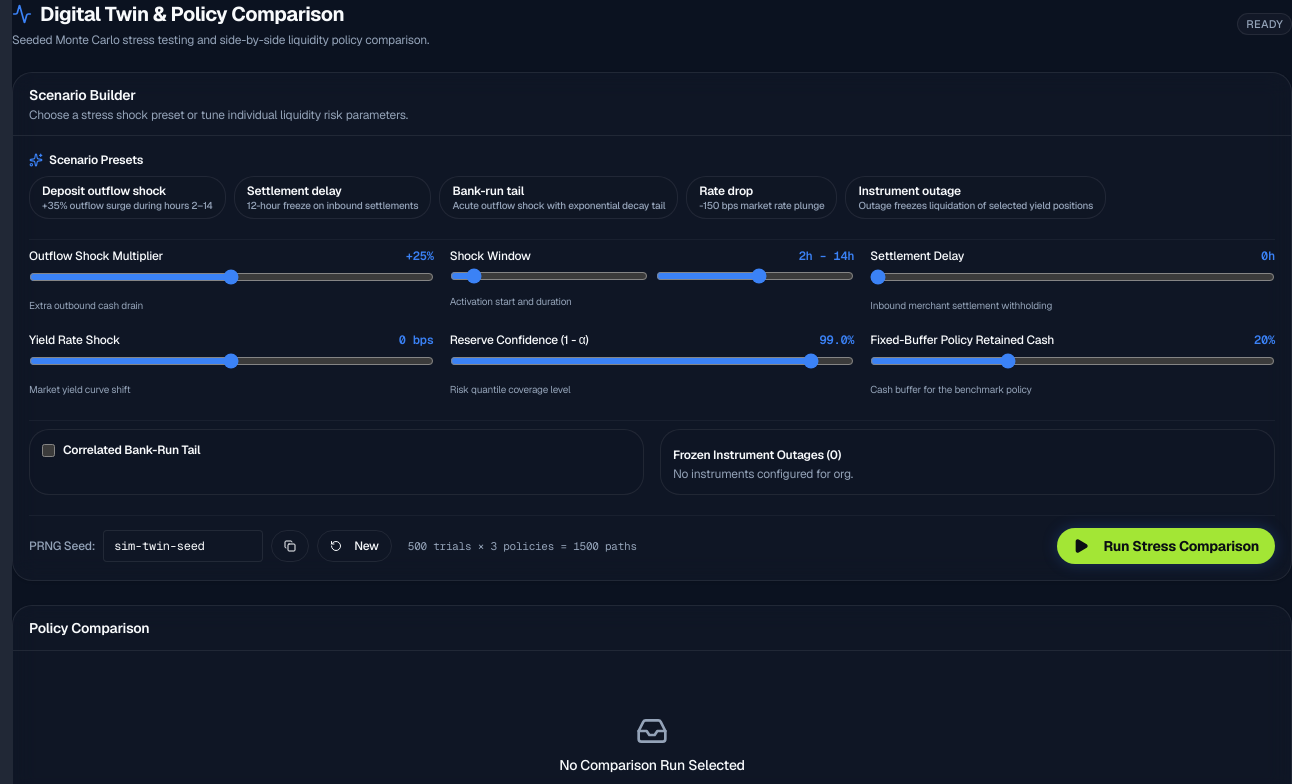
Digital Twin Page (/twin) › replay scrubber steps forward, backward, and responds to keyboard navigation
Run comparison
Click the button with test id "run-comparison-btn" at [1166, 546], box [1057, 528, 1275, 564]
(page scrolled)
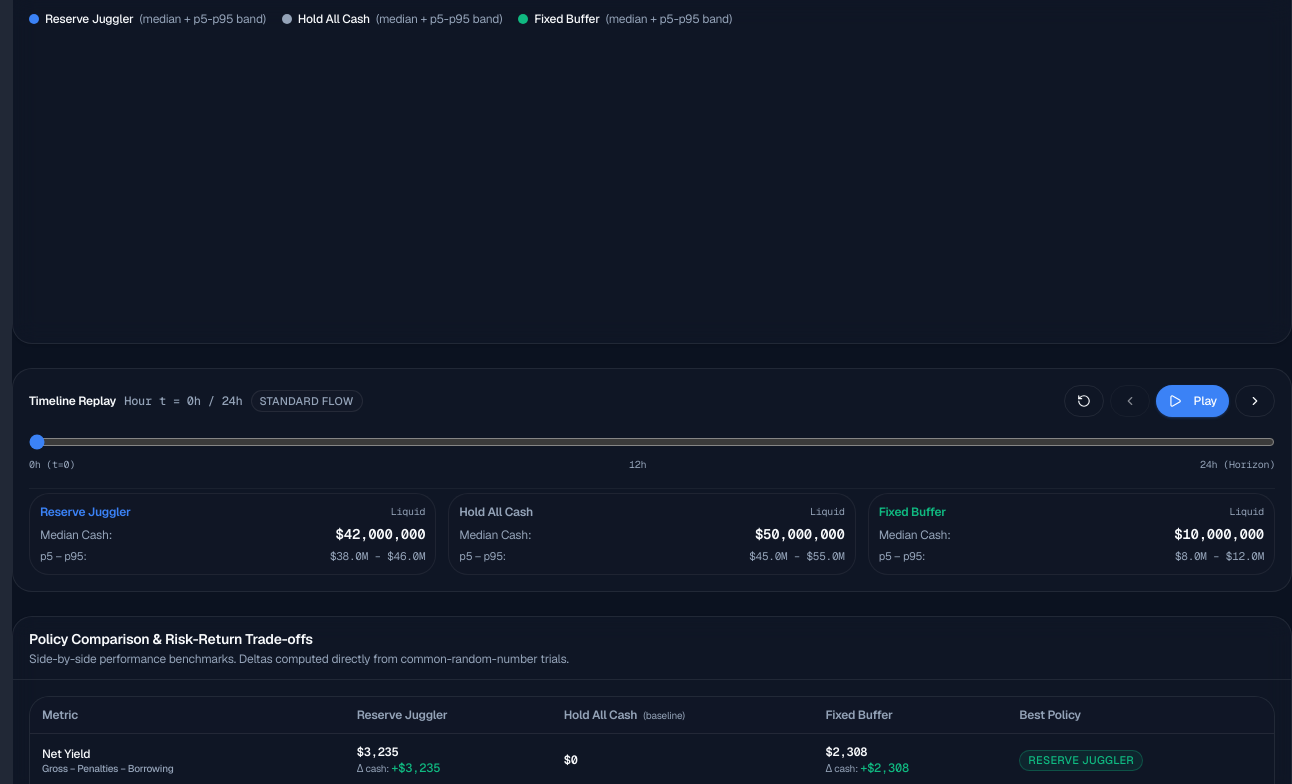
Expected: the element with test id "twin-replay-scrubber" is shown, [12, 368, 1291, 592]
Expected: the text "Hour t = 0h / 24h" is shown, [124, 393, 242, 409]
Step forward button
Click the button named "Step Forward 1 Hour" at [1255, 401], box [1235, 385, 1275, 417]
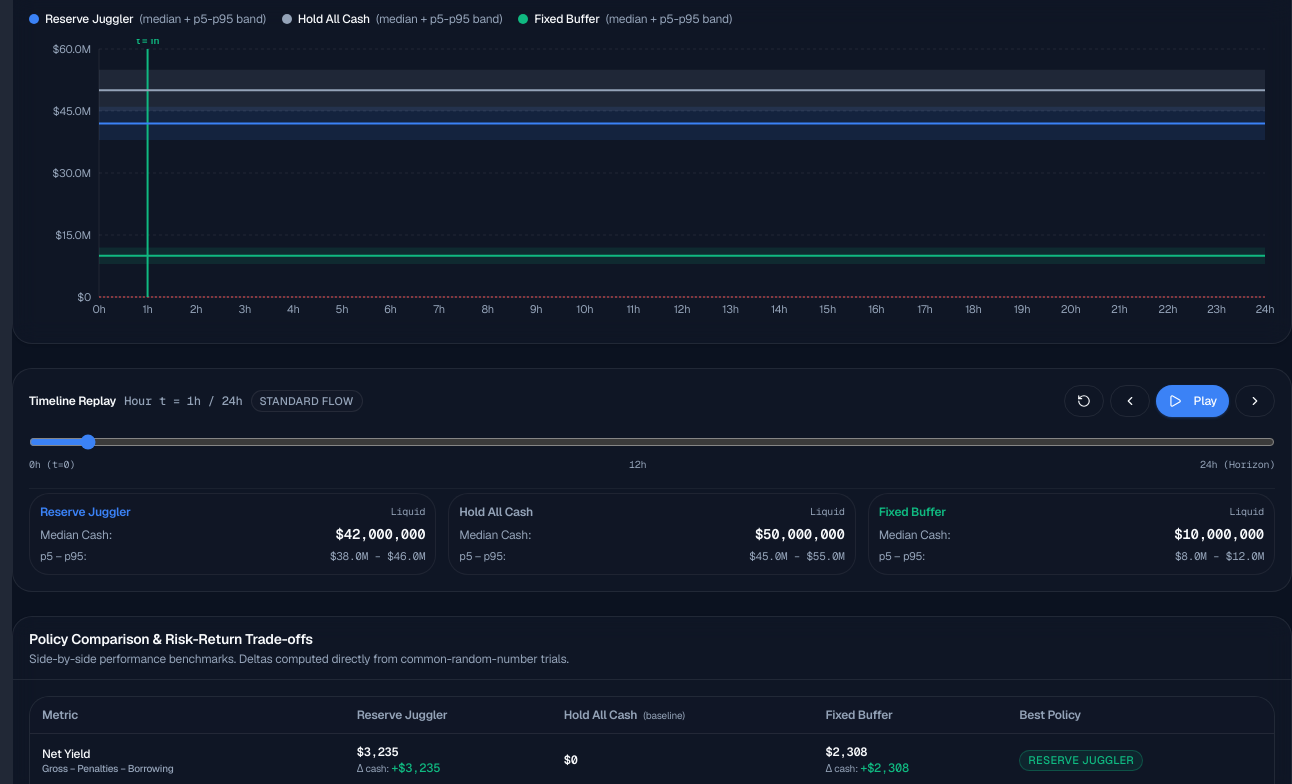
Expected: the text "Hour t = 1h / 24h" is shown, [124, 393, 242, 409]
Keyboard ArrowRight
Press ArrowRight in the element with test id "twin-replay-scrubber", box [12, 368, 1291, 592]
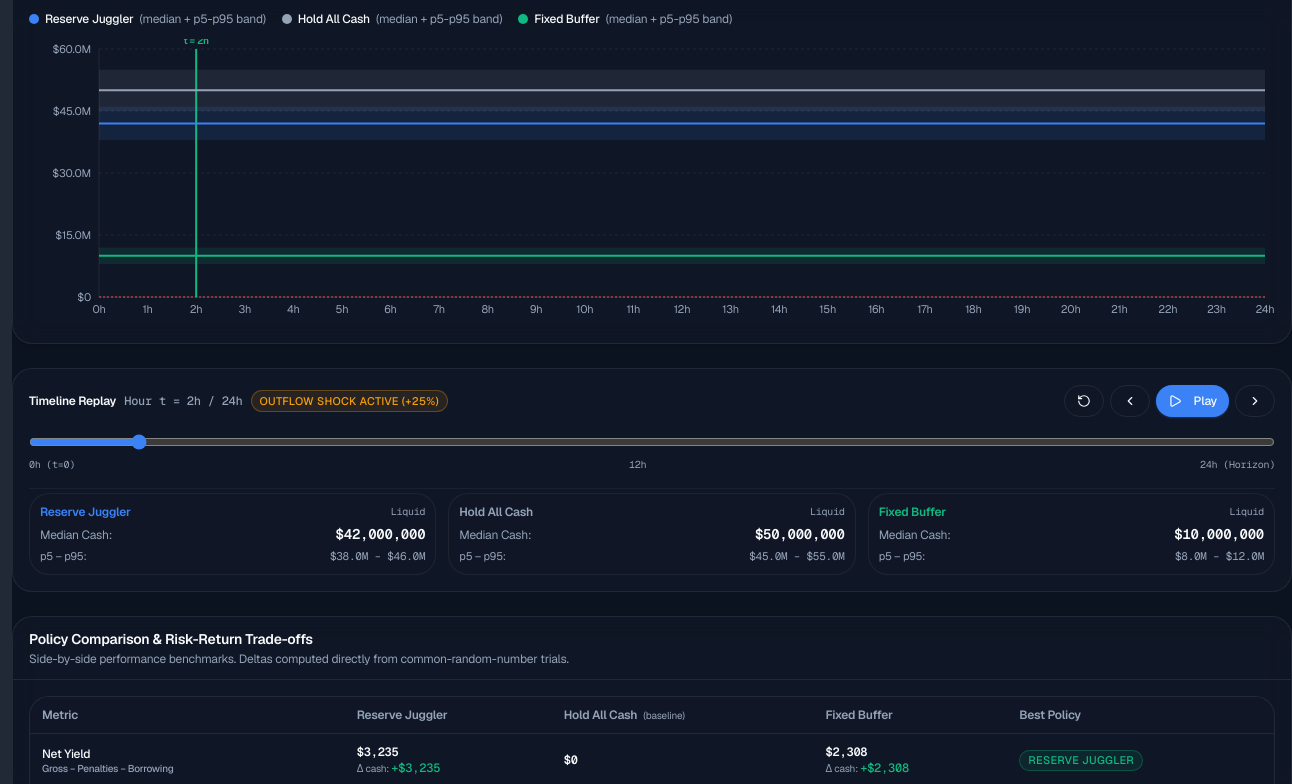
Expected: the text "Hour t = 2h / 24h" is shown, [124, 393, 242, 409]
Keyboard ArrowLeft
Press ArrowLeft in the element with test id "twin-replay-scrubber", box [12, 368, 1291, 592]
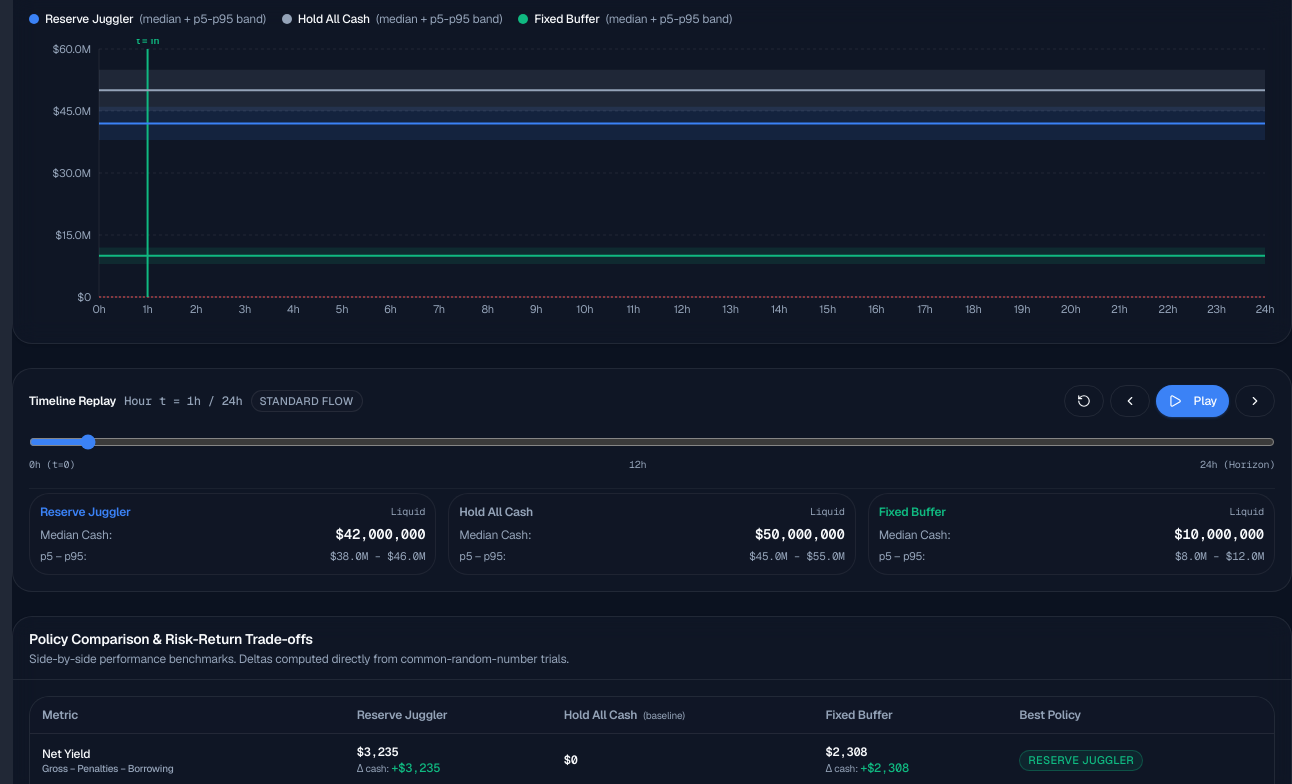
Expected: the button with test id "replay-play-pause-btn" reads "Play", [1156, 385, 1229, 417]
Expected: the text "Hour t = 1h / 24h" is shown, [124, 393, 242, 409]
Press Space in the element with test id "twin-replay-scrubber", box [12, 368, 1291, 592]
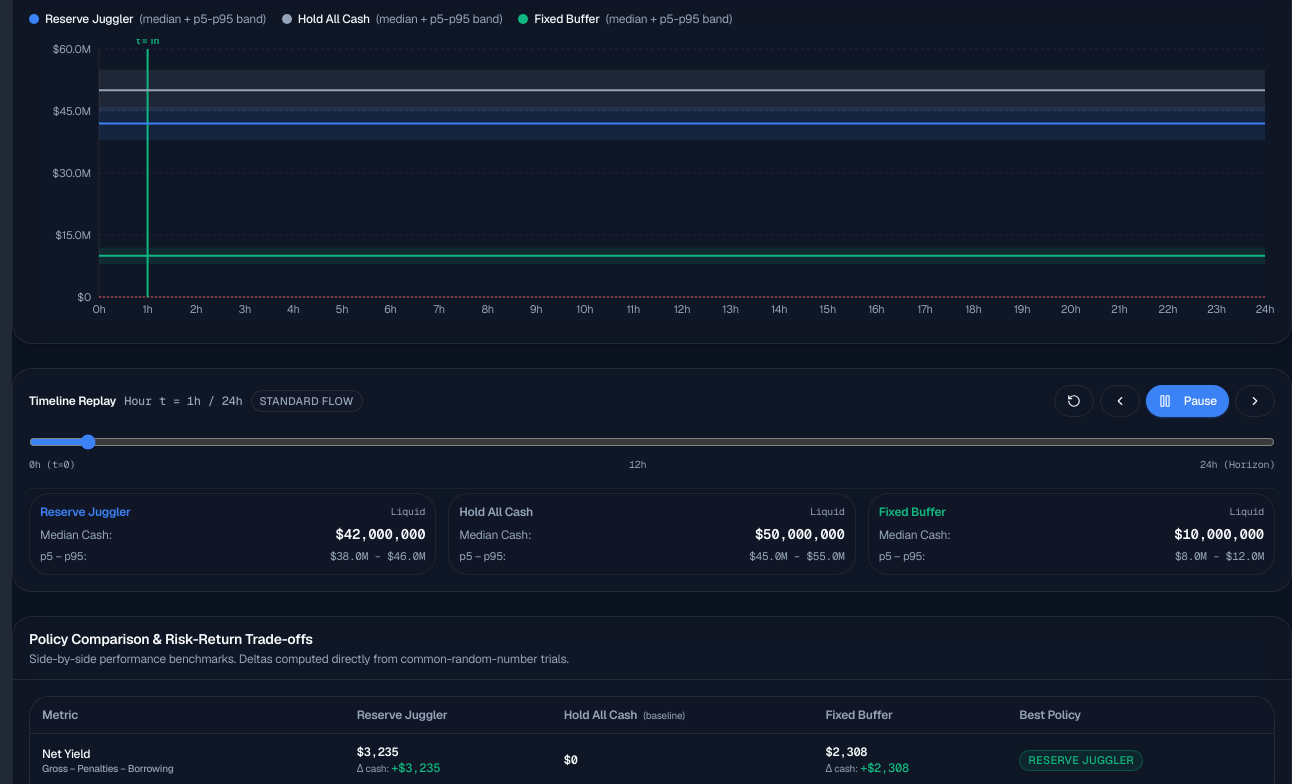
Expected: the button with test id "replay-play-pause-btn" reads "Pause", [1146, 385, 1229, 417]
